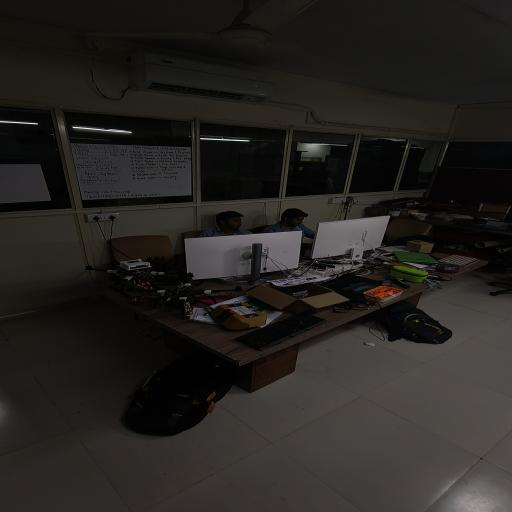survivor: (260, 208, 317, 240), (196, 210, 255, 238)
